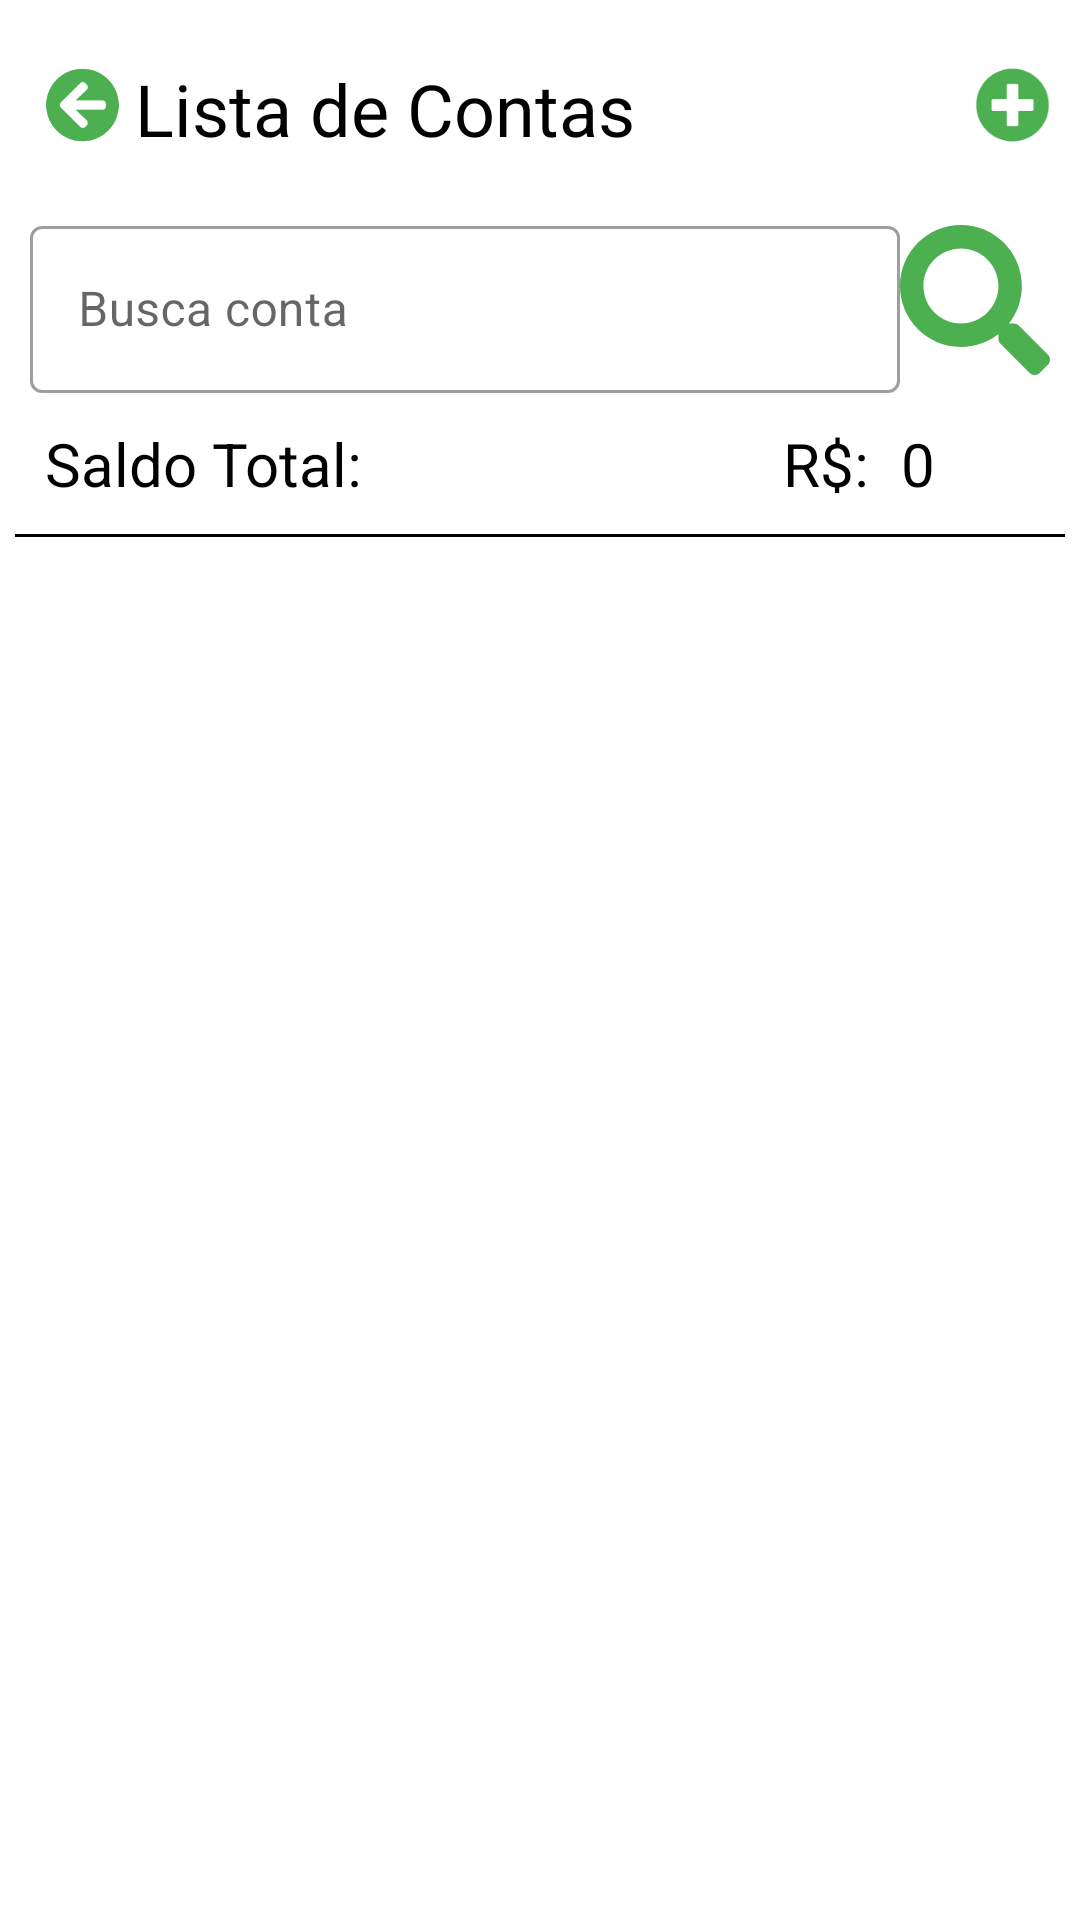

Named icons in this screenshot (1080px x 1920px) and their centers, (x=x, y=y):
add: (x=1012, y=105)
buscar: (x=975, y=300)
voltar: (x=82, y=105)
